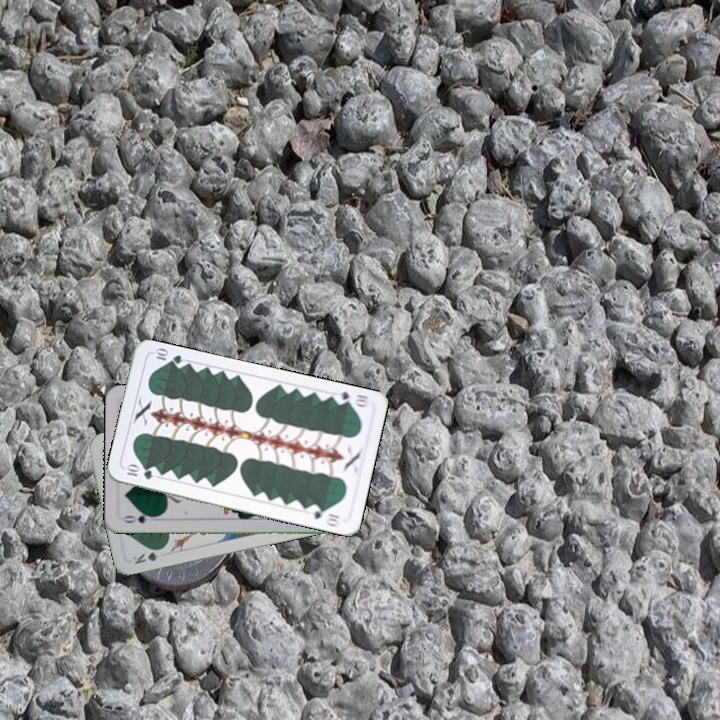G10: (330, 387, 372, 410), (121, 462, 155, 482)
GK: (129, 544, 167, 567)
GO: (119, 509, 159, 526)
